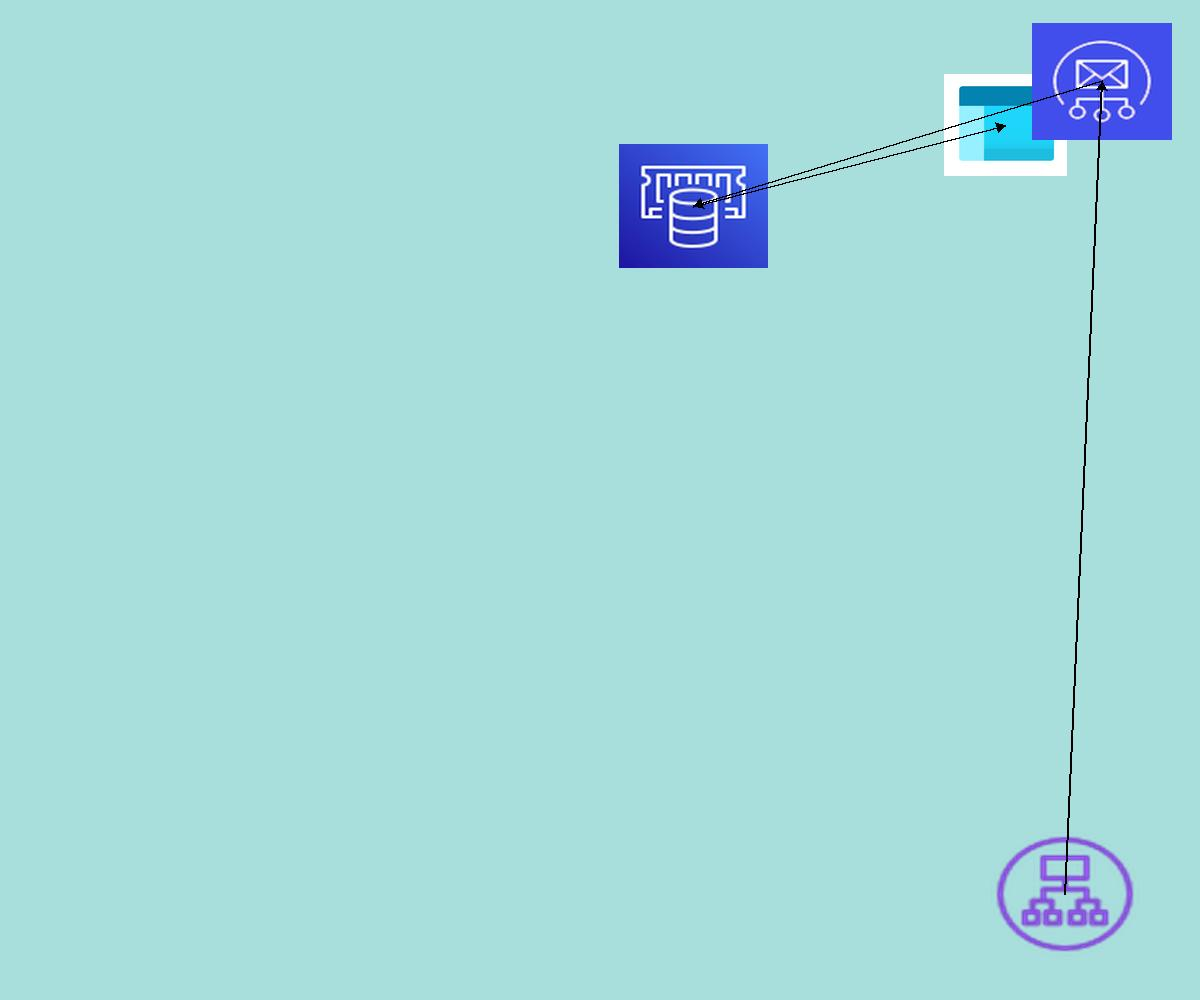AWS-ElastiCache: (619, 144, 768, 268)
AWS-Res_Elastic-Load-Balancing_Application-Load-Balancer: (991, 832, 1139, 956)
AWS-Simple-Email-Service: (1032, 23, 1172, 140)
Azure_management-portal: (944, 74, 1067, 176)
